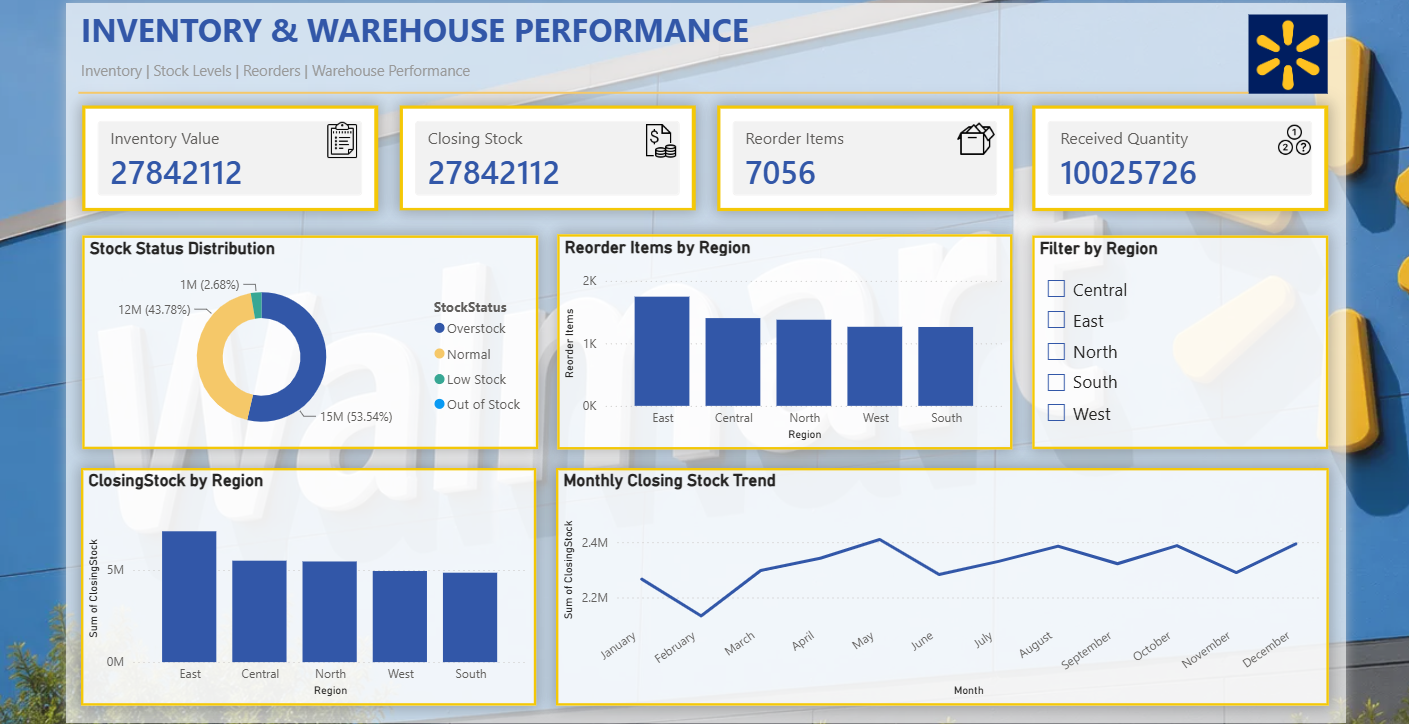

The page's visual inventory and layout, read from the dashboard file:
{"tool":"powerbi","page":{"name":"Inventory & Warhouse","canvas":[1280,720],"ordinal":1},"visuals":[{"type":"textbox","box":[10.1,0,710.2,52.8],"z":0},{"type":"textbox","box":[10.1,52.8,405.8,32.5],"z":1000},{"type":"cardVisual","fields":{"Data":["Inventory.Total Inventory"]},"box":[16.2,103.1,295.7,105.6],"z":2000},{"type":"cardVisual","fields":{"Data":["Sum(Inventory.ClosingStock)"]},"box":[334,102.5,295.7,105],"z":3000},{"type":"cardVisual","fields":{"Data":["Inventory.Reorder Items"]},"box":[651.5,103.1,295.7,105.6],"z":4000},{"type":"cardVisual","fields":{"Data":["Sum(Inventory.ReceivedQty)"]},"box":[966.3,103,295.7,105.6],"z":5000},{"type":"donutChart","title":"Stock Status Distribution","fields":{"Category":["Inventory.StockStatus"],"Y":["Sum(Inventory.ClosingStock)"]},"box":[16.2,232.3,456.2,213.8],"z":6000},{"type":"clusteredColumnChart","title":"ClosingStock by Region","fields":{"Category":["Stores.Region"],"Y":["Sum(Inventory.ClosingStock)"]},"box":[15,465,455,237.5],"z":7000},{"type":"clusteredColumnChart","fields":{"Category":["Stores.Region"],"Y":["Inventory.Reorder Items"]},"box":[491.7,231.7,455,215],"z":8000},{"type":"lineChart","title":"Monthly Closing Stock Trend","fields":{"Category":["DateTable.Month"],"Y":["Sum(Inventory.ClosingStock)"]},"box":[490,465,772.5,237.5],"z":9000},{"type":"slicer","title":"Filter by Region","fields":{"Values":["Stores.Region"]},"box":[966.2,232.5,296.2,213.8],"z":10000},{"type":"image","box":[1182.5,7.5,79.2,87.5],"z":11000},{"type":"shape","box":[12.9,84,1170,12.1],"z":11001},{"type":"image","box":[256.1,118.9,40,37.2],"z":11002},{"type":"image","box":[575,118.9,35.6,37.2],"z":11003},{"type":"image","box":[891.7,118.9,37.8,37.2],"z":11004},{"type":"image","box":[1211.1,118.9,34.1,36.5],"z":11005}]}

Visuals, with their boxes on the page's 1280x720 design canvas (x1, y1, x2, y2). These are canvas units, not pixel positions in the 1409x724 screenshot, which may show the page scaled, cropped or inside an application window:
textbox: bbox=(10, 0, 720, 53)
textbox: bbox=(10, 53, 416, 85)
cardVisual - Inventory.Total Inventory: bbox=(16, 103, 312, 209)
cardVisual - Sum(Inventory.ClosingStock): bbox=(334, 102, 630, 208)
cardVisual - Inventory.Reorder Items: bbox=(652, 103, 947, 209)
cardVisual - Sum(Inventory.ReceivedQty): bbox=(966, 103, 1262, 209)
"Stock Status Distribution" donutChart: bbox=(16, 232, 472, 446)
"ClosingStock by Region" clusteredColumnChart: bbox=(15, 465, 470, 702)
clusteredColumnChart - Stores.Region x Inventory.Reorder Items: bbox=(492, 232, 947, 447)
"Monthly Closing Stock Trend" lineChart: bbox=(490, 465, 1262, 702)
"Filter by Region" slicer: bbox=(966, 232, 1262, 446)
image: bbox=(1182, 8, 1262, 95)
shape: bbox=(13, 84, 1183, 96)
image: bbox=(256, 119, 296, 156)
image: bbox=(575, 119, 611, 156)
image: bbox=(892, 119, 930, 156)
image: bbox=(1211, 119, 1245, 155)
